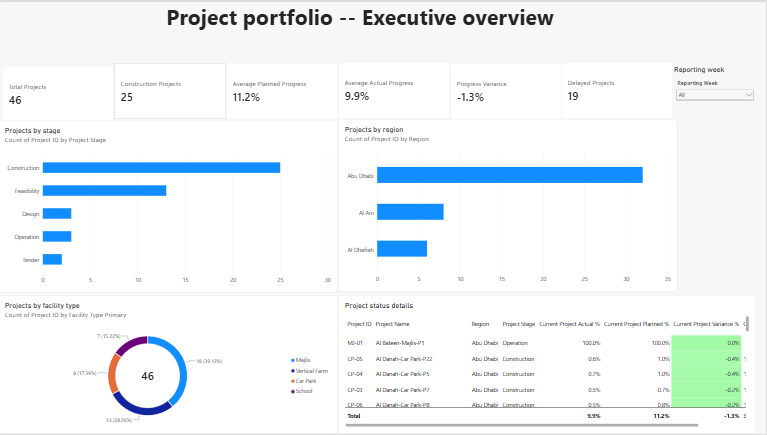

This screenshot's page, from the dashboard's own definition file:
{"tool":"powerbi","page":{"name":"Executive Overview","canvas":[1920,1080],"ordinal":0},"visuals":[{"type":"cardVisual","fields":{"Data":["Projects.Total projects"]},"box":[10.4,160.4,279.7,141.1],"z":0},{"type":"cardVisual","fields":{"Data":["Projects.Construction Projects"]},"box":[289.6,152.1,279.7,141.1],"z":1000},{"type":"cardVisual","fields":{"Data":["Project updates.Average Planned Progress"]},"box":[568.8,152.1,279.7,141.1],"z":2000},{"type":"cardVisual","fields":{"Data":["Project updates.Average Actual Progress"]},"box":[850,152.1,279.7,141.1],"z":3000},{"type":"cardVisual","fields":{"Data":["Project updates.Progress Variance"]},"box":[1129.2,152.1,279.7,141.1],"z":4000},{"type":"cardVisual","fields":{"Data":["Project updates.Delayed Projects"]},"box":[1408.3,160.4,279.7,141.1],"z":5000},{"type":"clusteredBarChart","title":"Projects by stage","fields":{"Category":["Projects.Project Stage"],"Y":["Count(Projects.Project ID)"]},"box":[0,293.8,849.1,430.9],"z":6000},{"type":"clusteredBarChart","title":"Projects by region","fields":{"Category":["Projects.Region"],"Y":["CountNonNull(Projects.Project ID)"]},"box":[850,302.1,849,431],"z":7000},{"type":"donutChart","title":"Projects by facility type","fields":{"Category":["Projects.Facility Type Primary"],"Y":["Count(Projects.Project ID)"]},"box":[0,733.3,850,345.8],"z":8000},{"type":"slicer","title":"Reporting week","fields":{"Values":["Project updates.Reporting Week"]},"box":[1689.6,572.9,231.2,152.1],"z":9000},{"type":"tableEx","title":"Project status details","fields":{"Values":["Projects.Project ID","Projects.Project Name","Projects.Region","Projects.Project Stage","Calendar.Current Project Actual %","Calendar.Current Project Planned %","Calendar.Current Project Variance %","Calendar.Current Forecast date"]},"box":[849,733.3,1045.1,347.1],"z":10000},{"type":"textbox","box":[400,0,1025.6,151.2],"z":11000}]}

Visuals, with their boxes in screenshot pixels (x1, y1, x2, y2), scaled from the page's 1920x1080 canvas onto the 767x435 screenshot:
cardVisual - Projects.Total projects: <region>4, 65, 116, 121</region>
cardVisual - Projects.Construction Projects: <region>116, 61, 227, 118</region>
cardVisual - Project updates.Average Planned Progress: <region>227, 61, 339, 118</region>
cardVisual - Project updates.Average Actual Progress: <region>340, 61, 451, 118</region>
cardVisual - Project updates.Progress Variance: <region>451, 61, 563, 118</region>
cardVisual - Project updates.Delayed Projects: <region>563, 65, 674, 121</region>
"Projects by stage" clusteredBarChart: <region>0, 118, 339, 292</region>
"Projects by region" clusteredBarChart: <region>340, 122, 679, 295</region>
"Projects by facility type" donutChart: <region>0, 295, 340, 434</region>
"Reporting week" slicer: <region>675, 231, 766, 292</region>
"Project status details" tableEx: <region>339, 295, 757, 434</region>
textbox: <region>160, 0, 569, 61</region>
